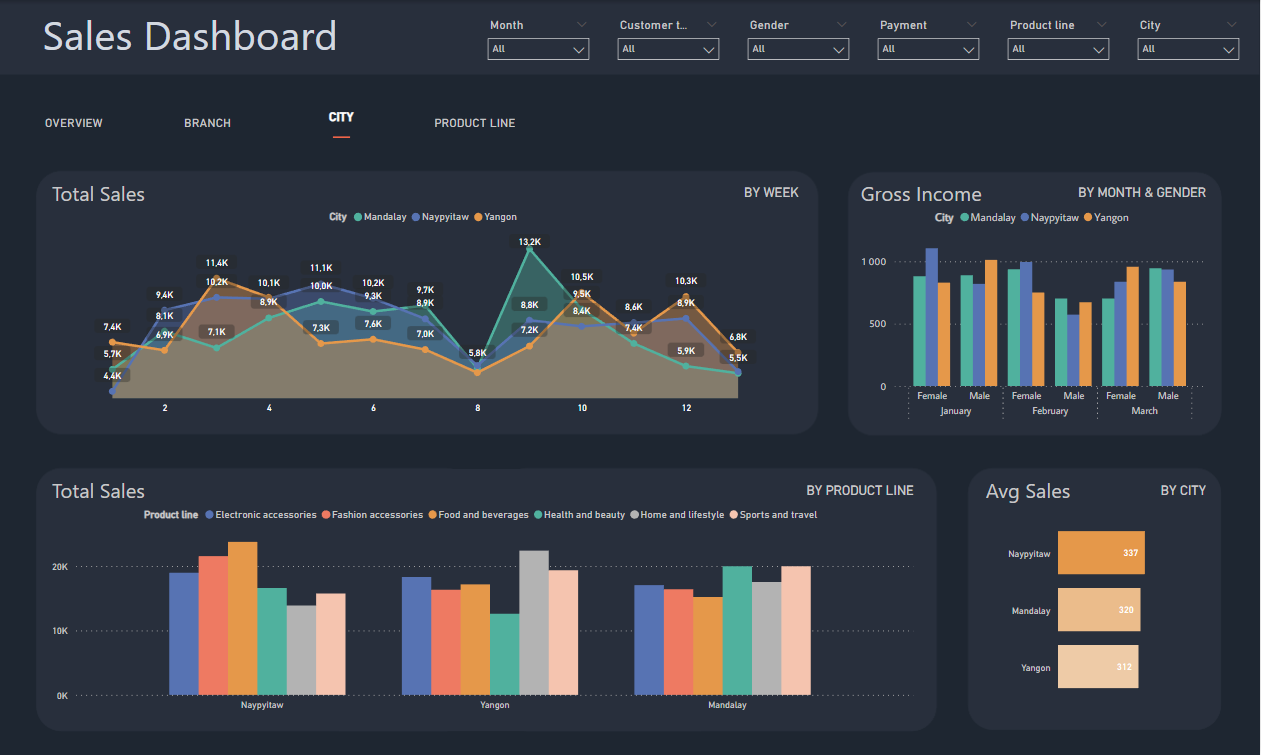

What the dashboard file says about the page in this screenshot:
{"tool":"powerbi","page":{"name":"CITY","canvas":[1500,900],"ordinal":2},"visuals":[{"type":"textbox","title":"Sales Dashboard","box":[40,4.5,374.9,117.5],"z":0},{"type":"pageNavigator","box":[25.3,122,627.8,50.6],"z":1000},{"type":"areaChart","title":"BY WEEK","fields":{"Category":["Worksheet.Week of Year"],"Y":["Sum(Worksheet.Total)"],"Series":["Worksheet.City"]},"box":[58,221.7,898.5,279.7],"z":2000},{"type":"textbox","box":[58,209.8,139.8,53.6],"z":3000},{"type":"textbox","box":[1169.3,563.8,175.5,53.6],"z":4000},{"type":"shape","box":[58,456.7,52.1,44.6],"z":5000},{"type":"shape","box":[904.5,456.7,52.1,44.6],"z":6000},{"type":"clusteredColumnChart","title":"BY MONTH & GENDER","fields":{"Category":["Worksheet.Date.Variation.Date Hierarchy.Month","Worksheet.Gender"],"Series":["Worksheet.City"],"Y":["Sum(Worksheet.gross income)"]},"box":[1022,221.7,419.5,290.1],"z":7000},{"type":"textbox","box":[614.4,563.8,168.1,53.6],"z":8000},{"type":"textbox","box":[1021,209.8,168.1,53.6],"z":9000},{"type":"textbox","box":[58,563.8,224.6,53.6],"z":10000},{"type":"slicer","fields":{"Values":["Worksheet.City"]},"box":[1344.8,17.9,141.3,68.4],"z":11000},{"type":"slicer","fields":{"Values":["Worksheet.Product line"]},"box":[1190.1,17.9,141.3,68.4],"z":12000},{"type":"slicer","fields":{"Values":["Worksheet.Payment"]},"box":[1035.4,17.9,141.3,68.4],"z":13000},{"type":"slicer","fields":{"Values":["Worksheet.Gender"]},"box":[880.7,17.9,141.3,68.4],"z":14000},{"type":"slicer","fields":{"Values":["Worksheet.Customer type"]},"box":[726,17.9,141.3,68.4],"z":15000},{"type":"slicer","fields":{"Values":["Worksheet.Date.Variation.Date Hierarchy.Month"]},"box":[571.2,17.9,141.3,68.4],"z":16000},{"type":"shape","box":[397,147,20.8,34.2],"z":17000},{"type":"shape","box":[404.6,559.3,431.4,312.4],"z":18000},{"type":"clusteredColumnChart","title":"BY PRODUCT LINE","fields":{"Category":["Worksheet.City"],"Series":["Worksheet.Product line"],"Y":["Worksheet.MeasureTotal"]},"box":[58,575.7,1035.4,279.7],"z":19000},{"type":"clusteredBarChart","title":"BY CITY","fields":{"Category":["Worksheet.City"],"Y":["Avg(Worksheet.Total)"]},"box":[1194.5,575.7,246.9,279.7],"z":20000}]}

Visuals, with their boxes in screenshot pixels (x1, y1, x2, y2), scaled from the page's 1500x900 canvas onto the 1261x755 screenshot:
"Sales Dashboard" textbox: 34:4:349:102
pageNavigator: 21:102:549:145
"BY WEEK" areaChart: 49:186:804:421
textbox: 49:176:166:221
textbox: 983:473:1131:518
shape: 49:383:93:421
shape: 760:383:804:421
"BY MONTH & GENDER" clusteredColumnChart: 859:186:1212:429
textbox: 517:473:658:518
textbox: 858:176:1000:221
textbox: 49:473:238:518
slicer - Worksheet.City: 1131:15:1249:72
slicer - Worksheet.Product line: 1000:15:1119:72
slicer - Worksheet.Payment: 870:15:989:72
slicer - Worksheet.Gender: 740:15:859:72
slicer - Worksheet.Customer type: 610:15:729:72
slicer - Worksheet.Date.Variation.Date Hierarchy.Month: 480:15:599:72
shape: 334:123:351:152
shape: 340:469:703:731
"BY PRODUCT LINE" clusteredColumnChart: 49:483:919:718
"BY CITY" clusteredBarChart: 1004:483:1212:718
